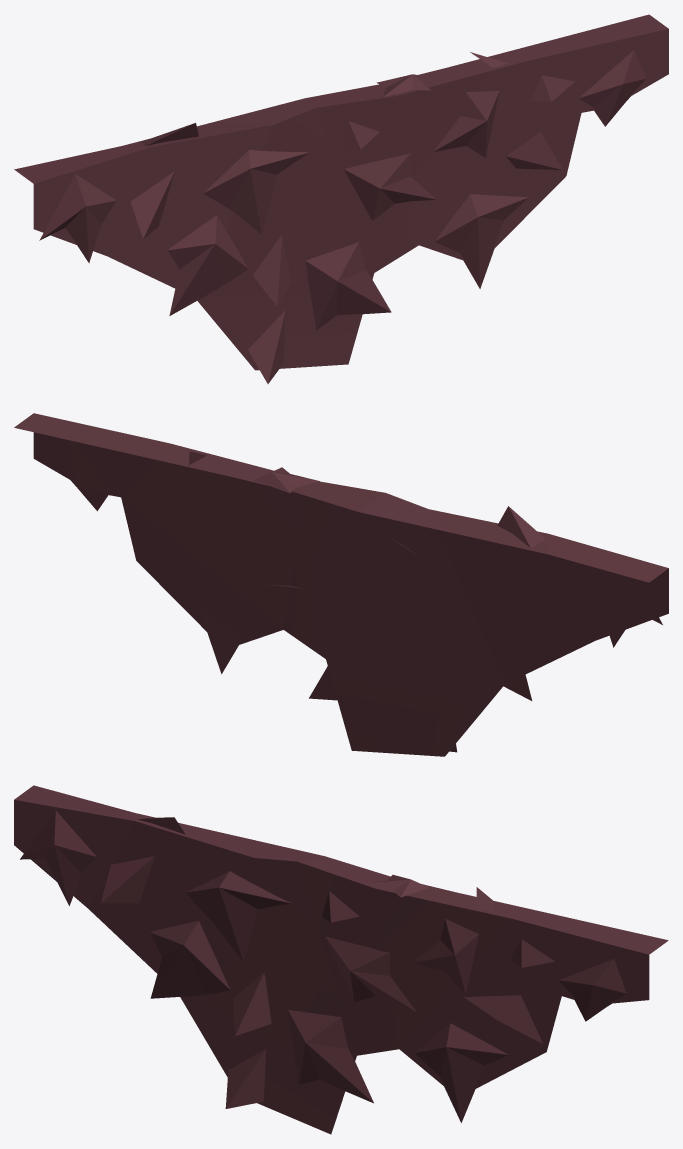
File: SM_Ivy_Medium_Empire.fbx
3 views of the same model, one above another, from view 1: azimuth 30°, elevation 25°; view 2: azimuth 150°, elevation 25°; view 3: azimuth 330°, elevation 25° (orthographic).
Parts seen in each view (by area): view 1: SM_Ivy_Medium_Empire; view 2: SM_Ivy_Medium_Empire; view 3: SM_Ivy_Medium_Empire.
Boxes of the visible parts, x1,y1,x2,y2 form: SM_Ivy_Medium_Empire: (14,14,668,383); SM_Ivy_Medium_Empire: (14,413,668,756); SM_Ivy_Medium_Empire: (14,785,668,1134).
Bounding box in the file's own units: 3 × 1.27 × 0.2557.
